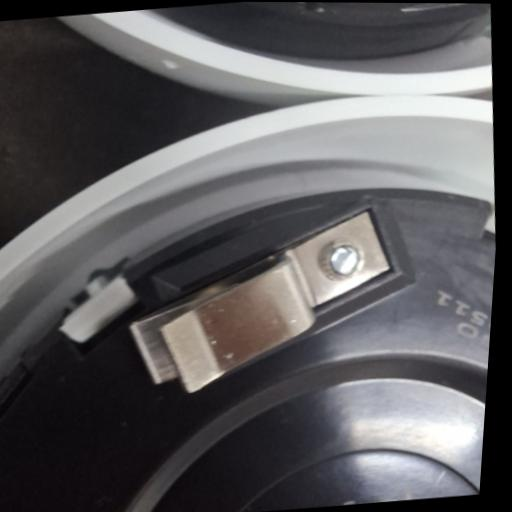yayli: (116, 205, 407, 400)
